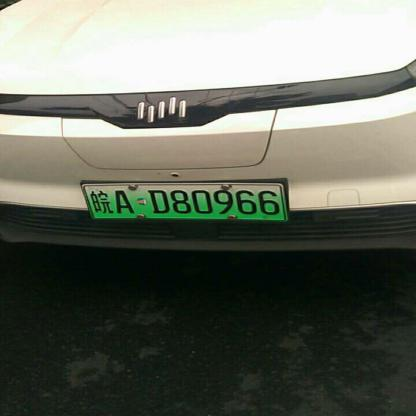lp: (82, 183, 285, 219)
